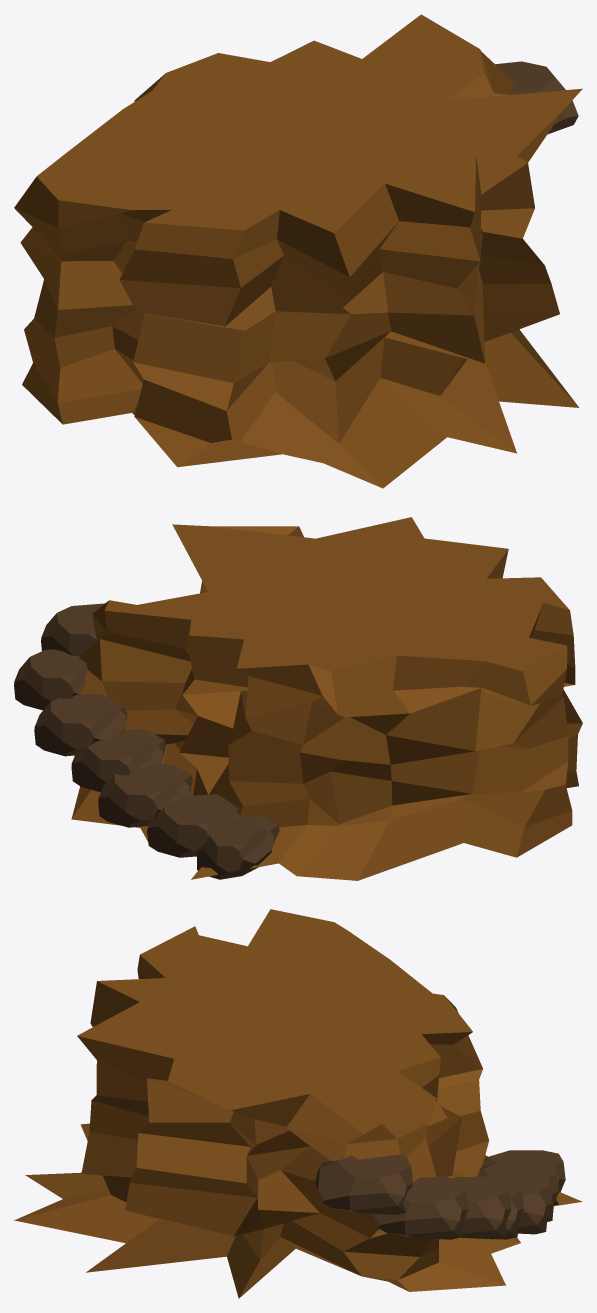
The model's file is Cliff_1WithStair.fbx.
3 views of the same model, one above another, from view 1: azimuth 30°, elevation 25°; view 2: azimuth 150°, elevation 25°; view 3: azimuth 270°, elevation 25° (orthographic). The views are drawn at different scales.
Visible parts, largest first — view 1: Plane, Cube.006; view 2: Plane, Cube.004, Cube.002, Cube.001, Cube, Cube.003, Cube.005, Cube.006; view 3: Plane, Cube.006, Cube.005, Cube.004, Cube.002, Cube.001, Cube, Cube.003.
Part boxes in pixels (x1,y1,x2,y2): Plane: [14, 14, 582, 488]; Cube.006: [495, 61, 578, 134]; Plane: [71, 517, 582, 880]; Cube.004: [34, 694, 127, 756]; Cube.002: [98, 764, 192, 827]; Cube.001: [147, 794, 242, 857]; Cube: [196, 815, 279, 879]; Cube.003: [71, 729, 166, 792]; Cube.005: [14, 649, 87, 710]; Cube.006: [41, 603, 104, 656]; Plane: [14, 909, 582, 1298]; Cube.006: [315, 1154, 413, 1214]; Cube.005: [373, 1177, 468, 1239]; Cube.004: [453, 1176, 511, 1239]; Cube.002: [487, 1171, 552, 1234]; Cube.001: [477, 1159, 558, 1221]; Cube: [483, 1150, 565, 1205]; Cube.003: [491, 1177, 523, 1239].
Size of the model in its own units: 204 by 88.55 by 210.
